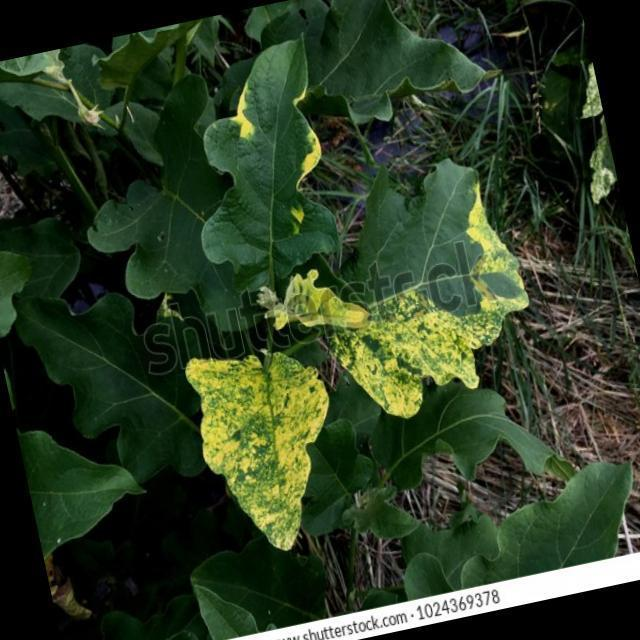Mosaic Virus: (308, 243, 556, 424), (177, 328, 346, 574), (188, 36, 348, 248)
